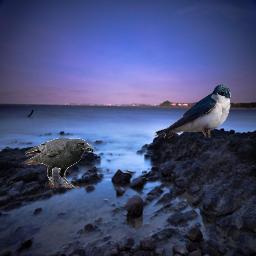Crow: (22, 138, 95, 188)
Swallow: (154, 84, 231, 138)
